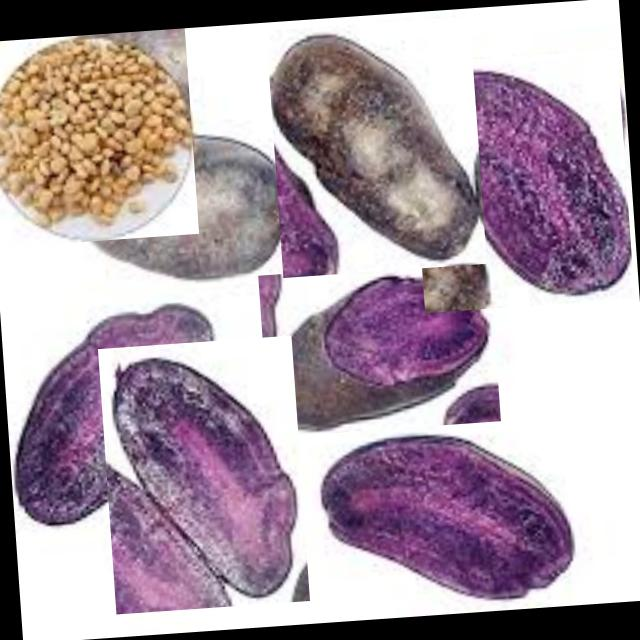Damaged potato: (406, 48, 633, 312), (96, 334, 308, 613), (264, 15, 486, 276), (304, 414, 584, 616), (0, 299, 228, 543), (0, 26, 197, 246), (256, 258, 499, 436)
